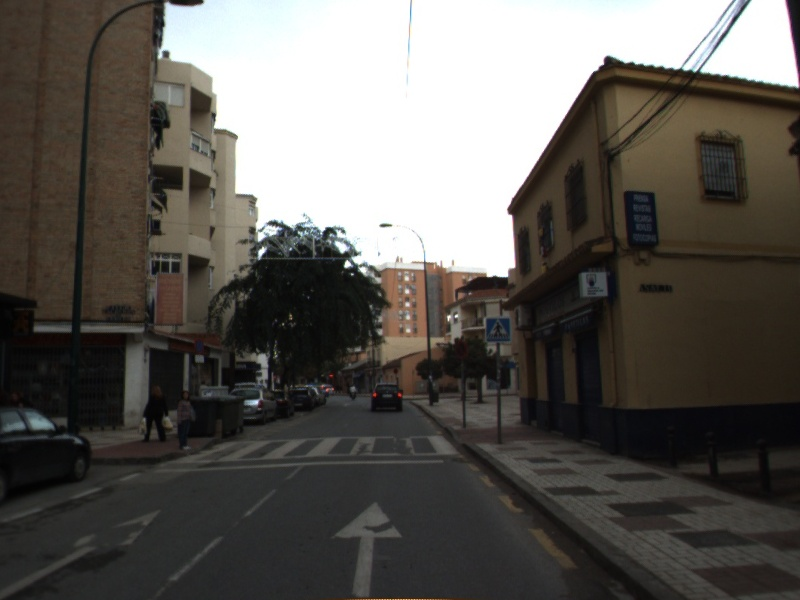STRAIGHT: (1, 507, 164, 600), (328, 500, 406, 600)
